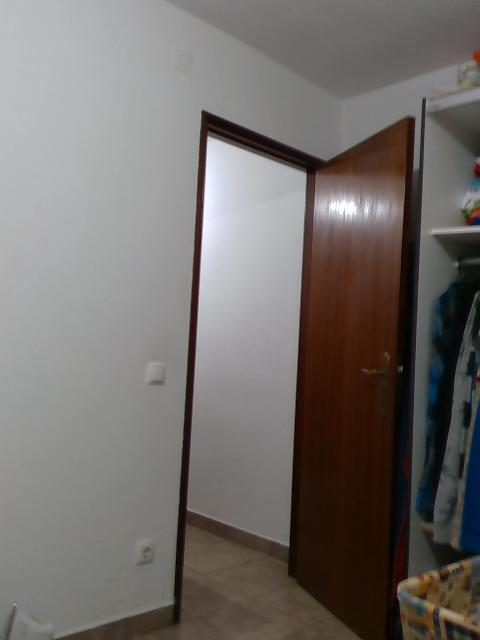open_door: (177, 107, 325, 621)
